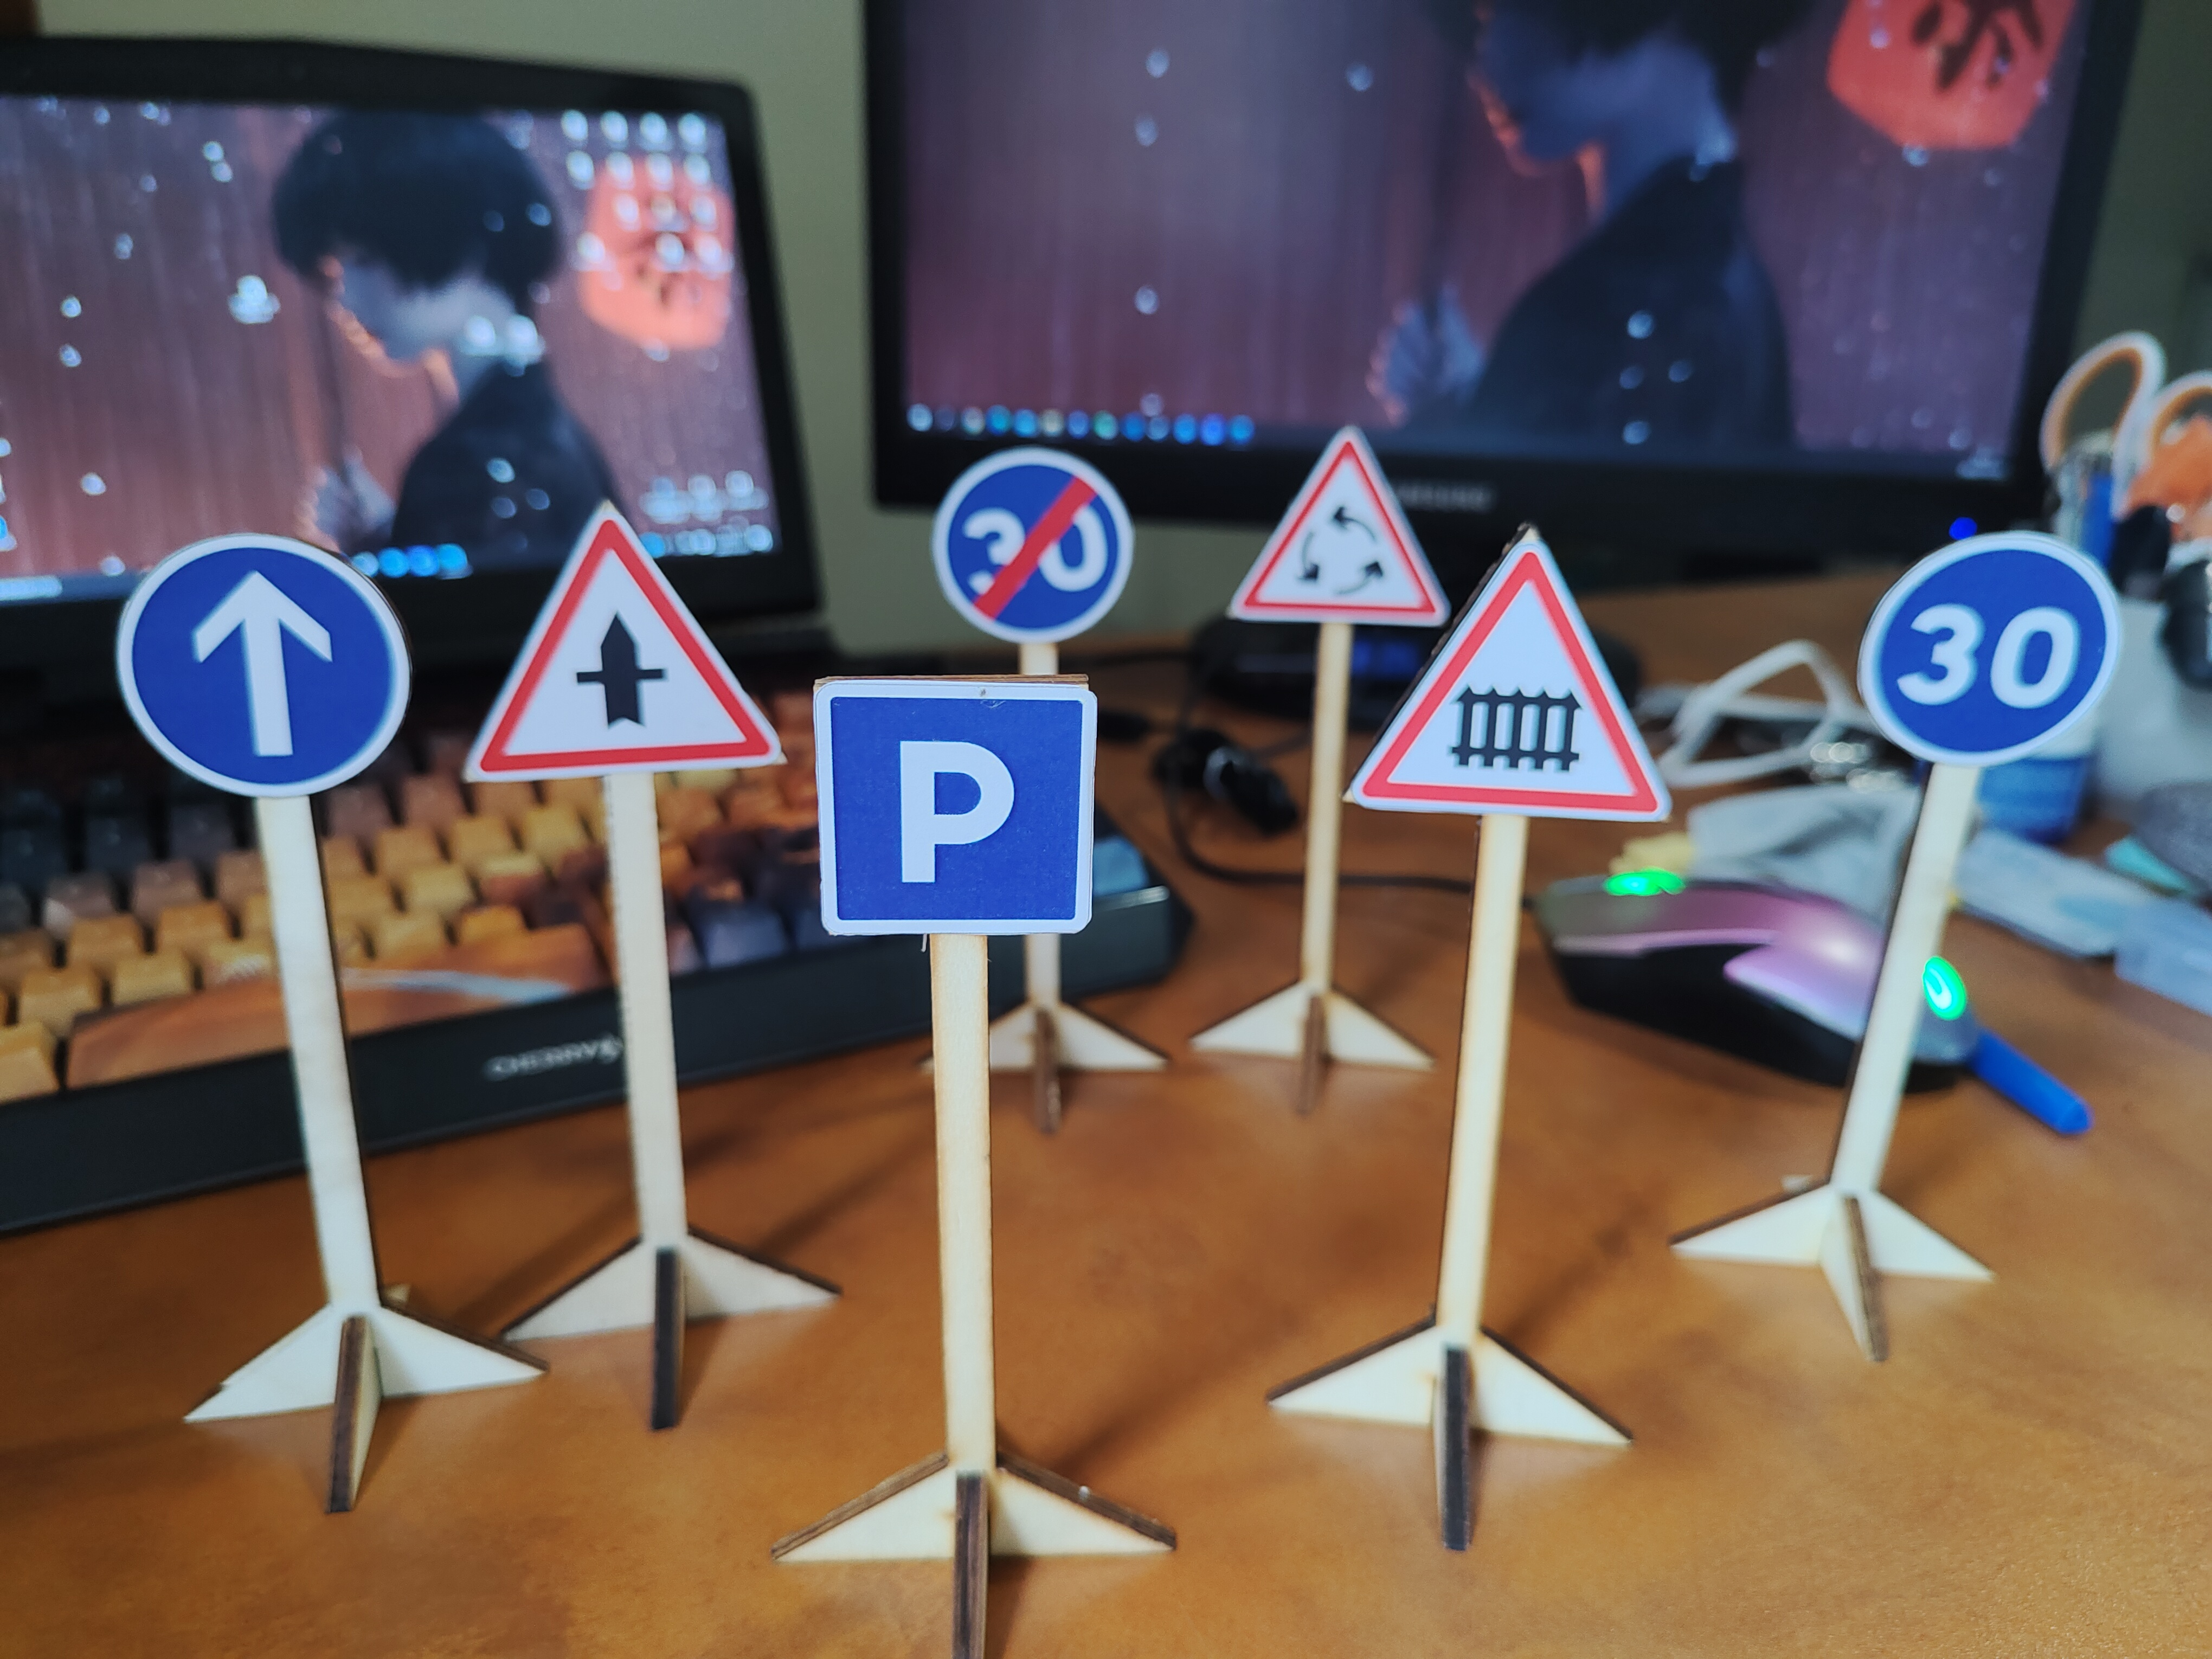P: (815, 667, 1097, 953)
ban: (941, 446, 1134, 634)
cycle: (1216, 418, 1451, 629)
first: (460, 495, 779, 765)
straight: (115, 523, 404, 796)
thirty: (1860, 525, 2118, 763)
train: (1322, 525, 1684, 824)
